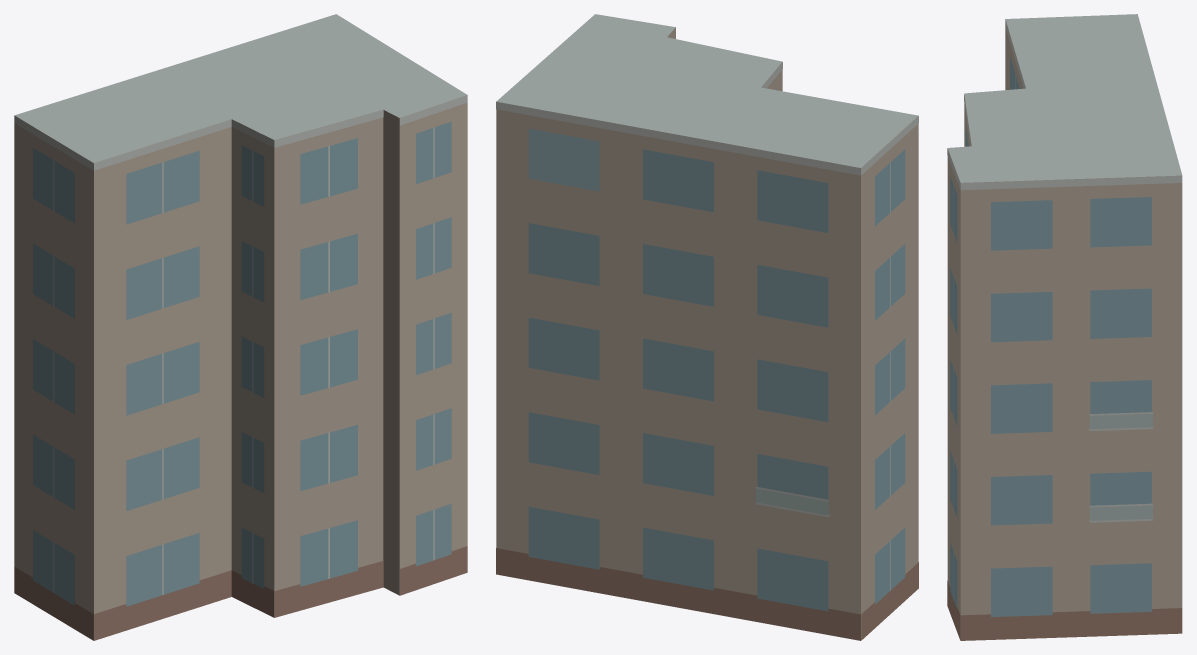
File: survey-upis-32640857.glb
3 renders of one model, left to right at view 1: azimuth 30°, elevation 25°; view 2: azimuth 150°, elevation 25°; view 3: azimuth 270°, elevation 25°, orthographic. The views are drawn at different scales.
Parts seen in each view (by area): view 1: survey-upis-32640857.tmp; view 2: survey-upis-32640857.tmp; view 3: survey-upis-32640857.tmp.
Part boxes in pixels (left/top/right/bottom): survey-upis-32640857.tmp: left=14, top=14, right=467, bottom=640; survey-upis-32640857.tmp: left=496, top=14, right=918, bottom=640; survey-upis-32640857.tmp: left=947, top=14, right=1182, bottom=640.
Bounding box in the file's own units: 12.07 × 15.25 × 7.1.
